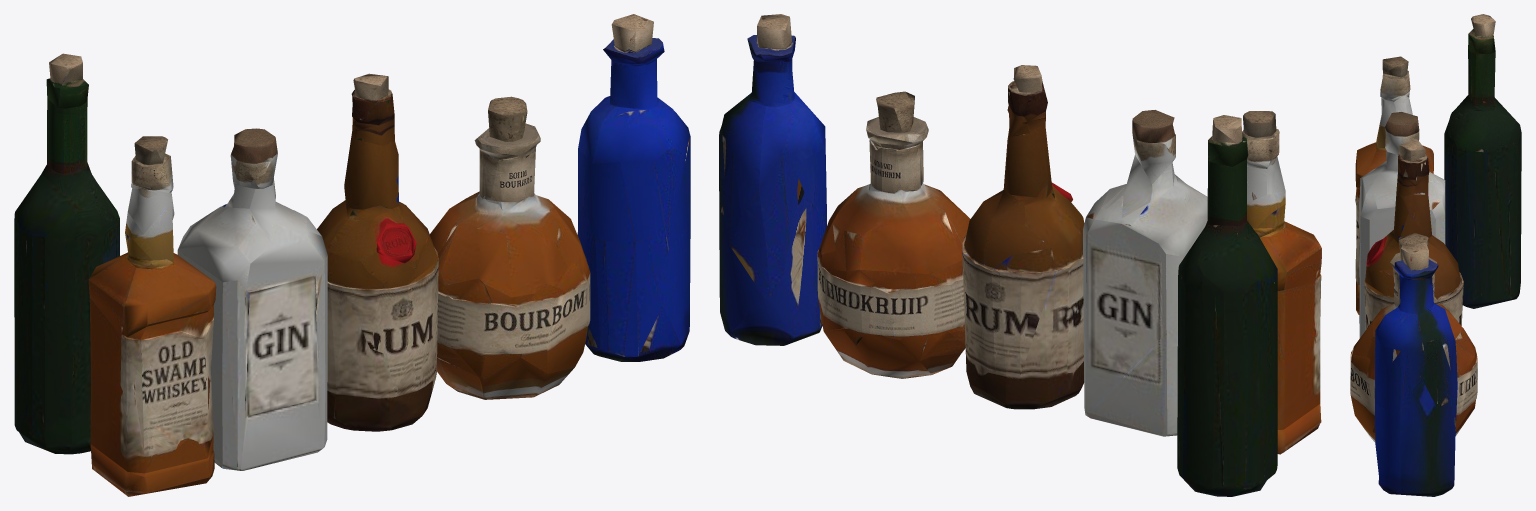
The model's file is sp_m_bottles.glb.
3 renders of one model, left to right at view 1: azimuth 30°, elevation 25°; view 2: azimuth 150°, elevation 25°; view 3: azimuth 270°, elevation 25°, orthographic. The views are drawn at different scales.
Visible parts, largest first — view 1: Mesh_0; view 2: Mesh_0; view 3: Mesh_0.
Boxes of the visible parts, x1=… form: Mesh_0: x1=14, y1=14, x2=690, y2=496; Mesh_0: x1=719, y1=14, x2=1321, y2=496; Mesh_0: x1=1350, y1=14, x2=1521, y2=496.
Size of the model in its own units: 1.9 by 1.11 by 0.622.
1 material, 1 textured.
